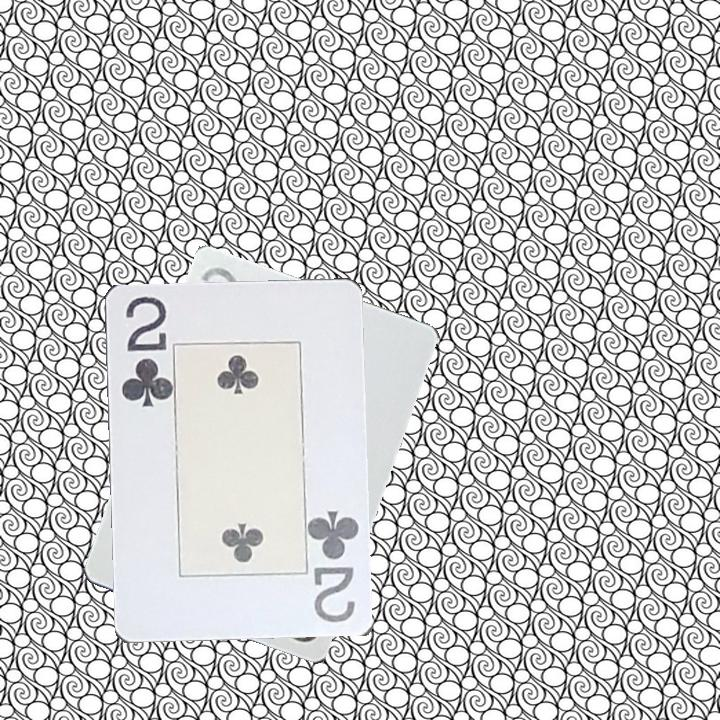2c: (307, 507, 363, 626), (118, 293, 170, 411)
